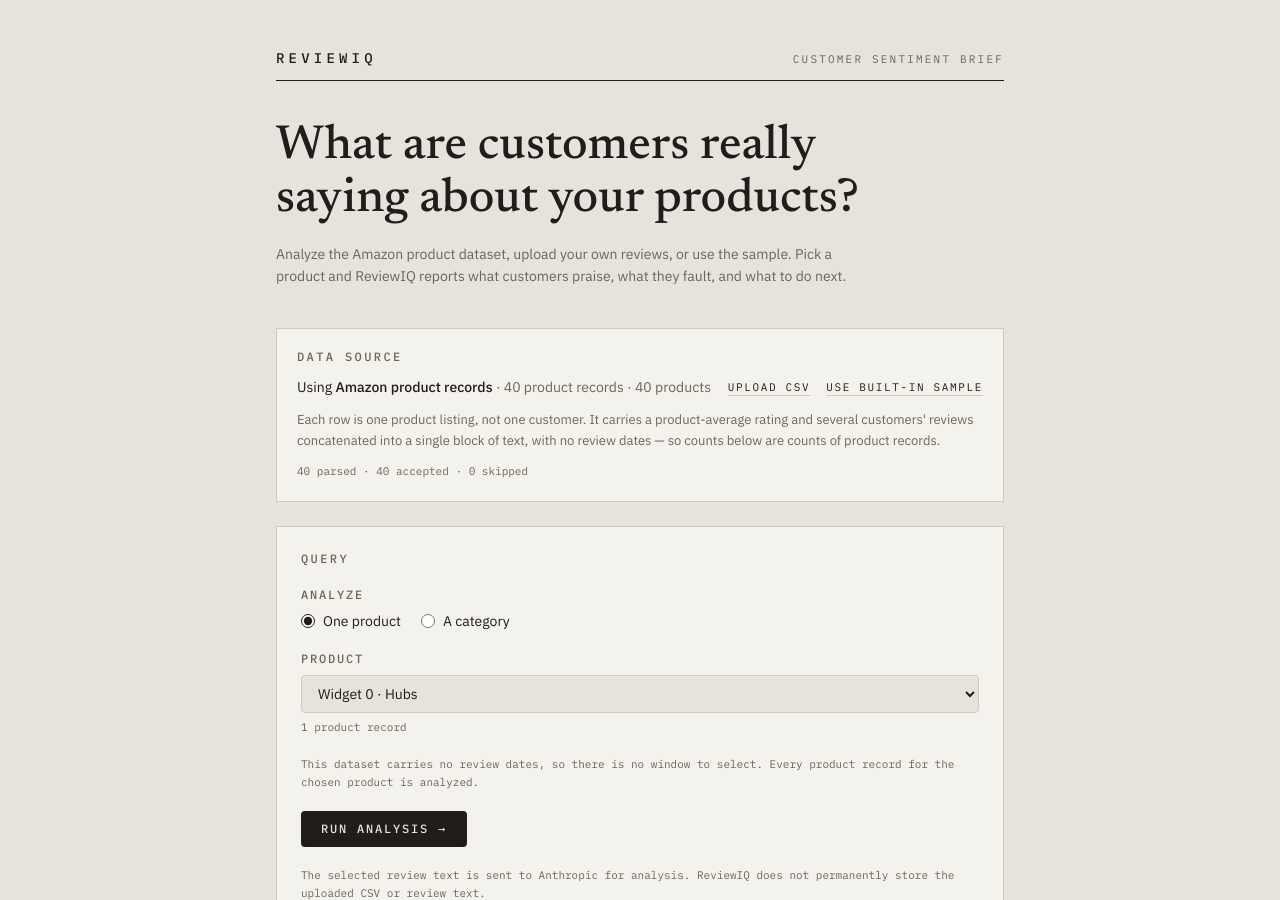
Test case: confirmation dialog › shows the scope, the row count, a runtime range, a cost ceiling, and the contract
The image size is (1280, 900).
Click the radio button labelled "A category" at (428, 621), box top-left (421, 614), bottom-right (435, 628)
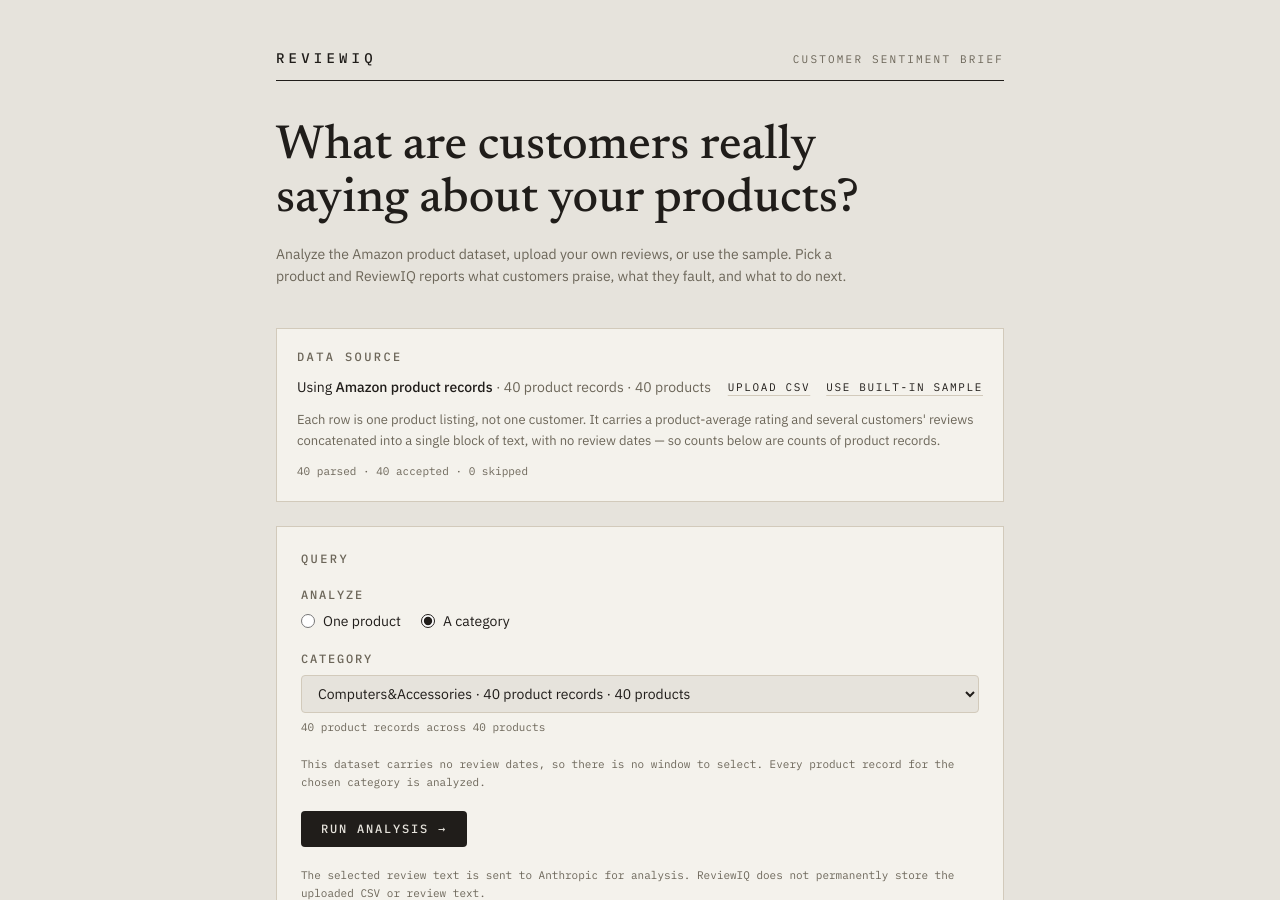
Click the submit button at (384, 830), box top-left (301, 812), bottom-right (467, 848)
(page scrolled)
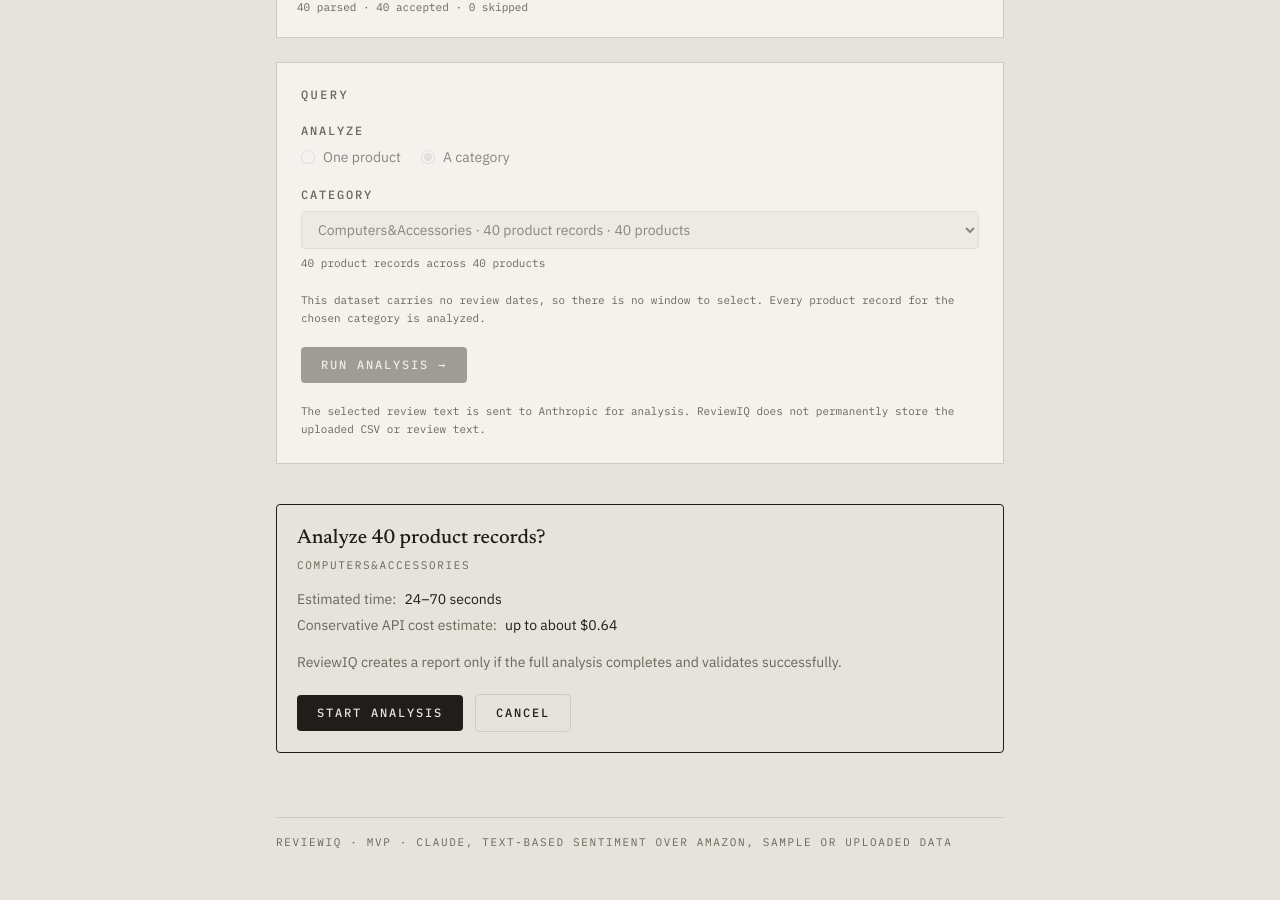
Expected: the dialog is shown, top-left (276, 504), bottom-right (1004, 753)
Expected: the heading "Analyze 40 product records?" is shown, top-left (297, 528), bottom-right (545, 548)
Expected: the text "Computers&Accessories" is shown, top-left (297, 558), bottom-right (470, 572)
